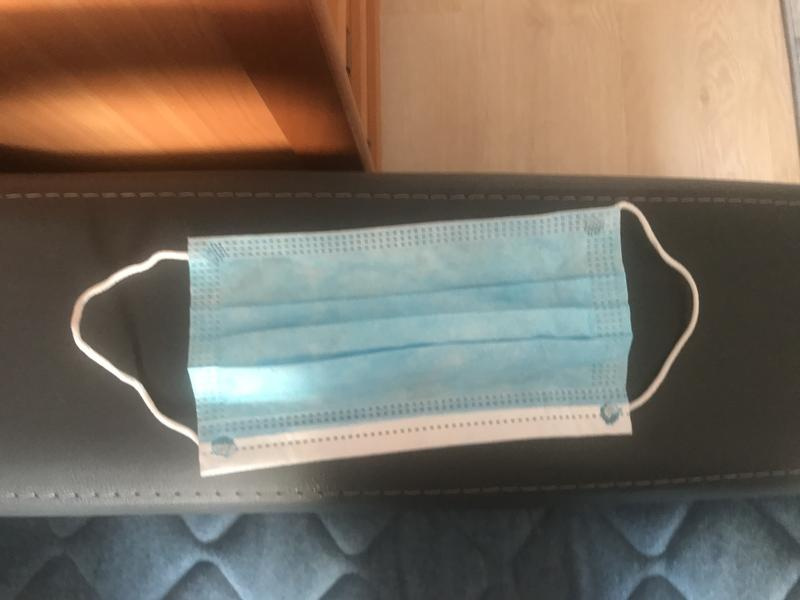medical_mask: (71, 200, 700, 482)
